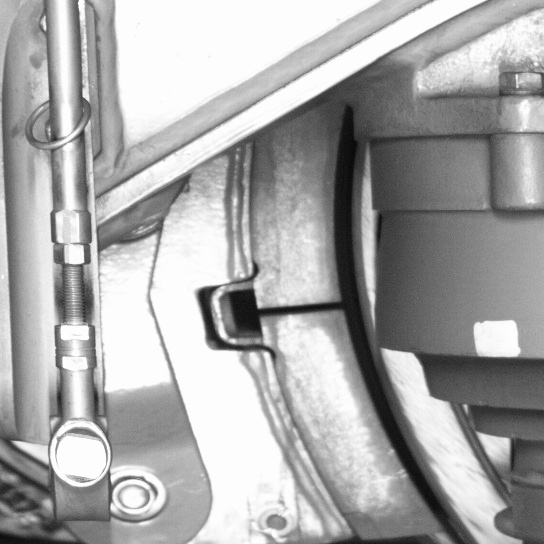KnifeSwitch: (261, 136, 477, 541)
